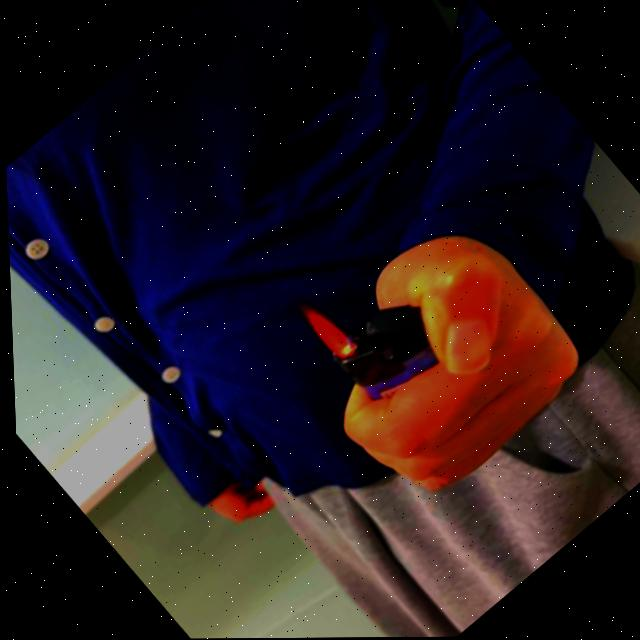Fire: (287, 292, 357, 366)
